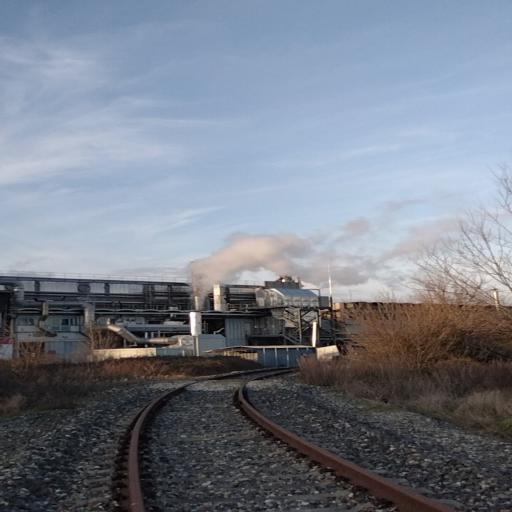leakage: (174, 193, 498, 315)
